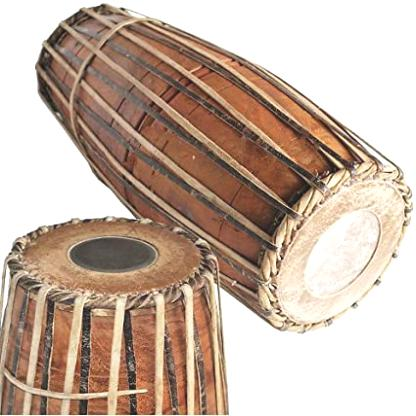Mridangam: (14, 1, 413, 340)
